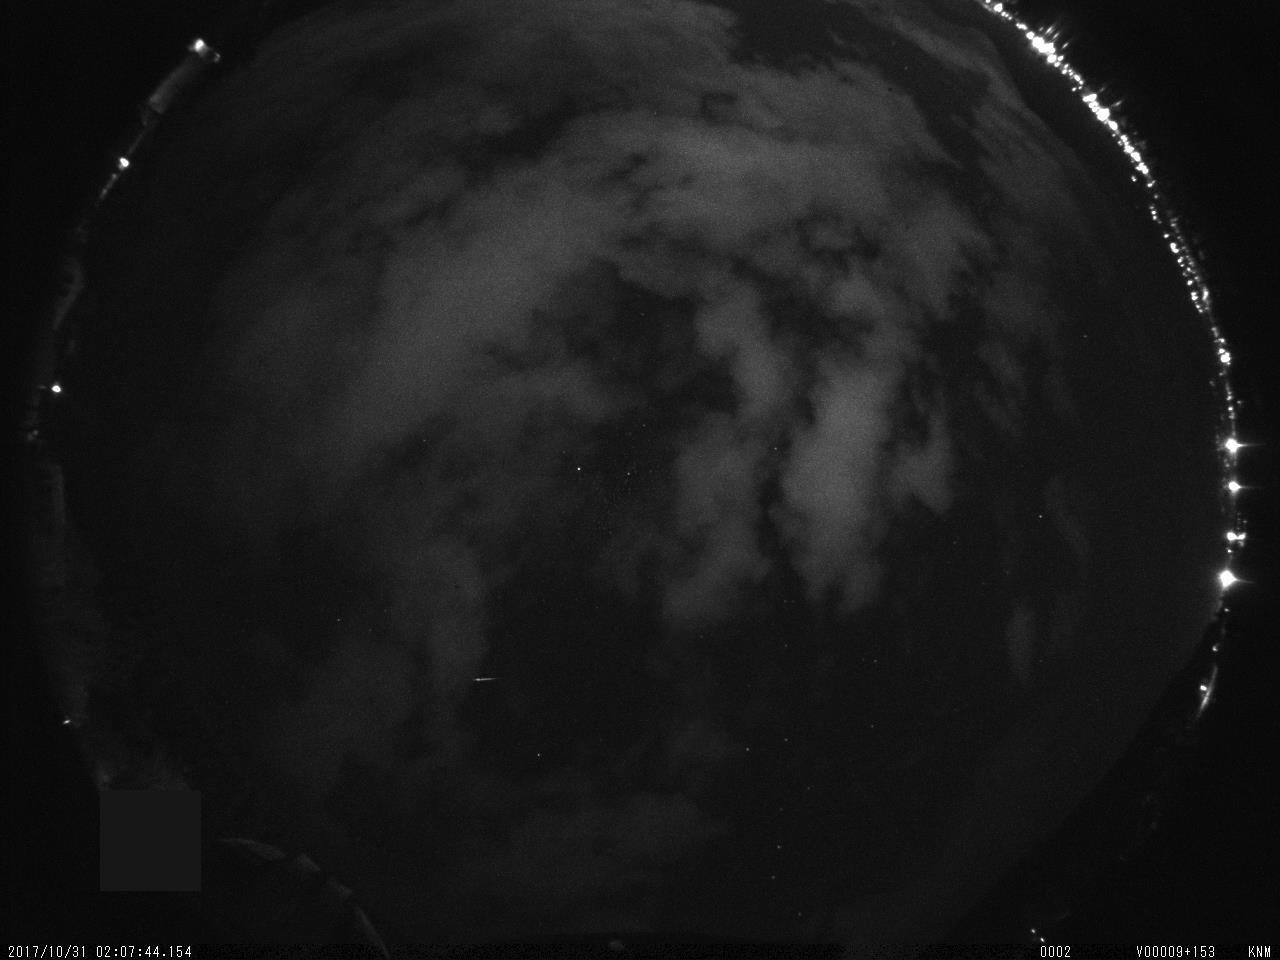meteor: (457, 658, 521, 695)
